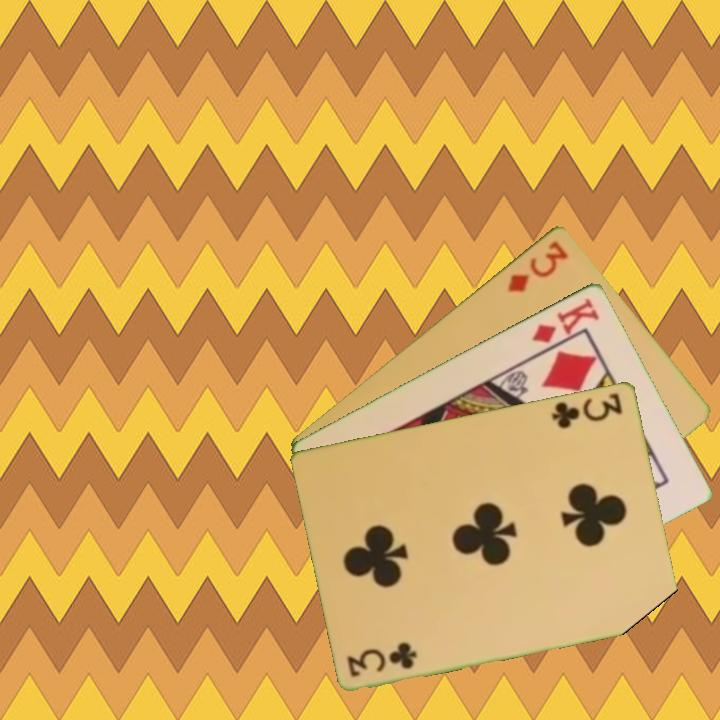3c: (548, 389, 626, 431), (344, 640, 420, 679)
3d: (503, 236, 572, 295)
Kd: (528, 293, 602, 346)
